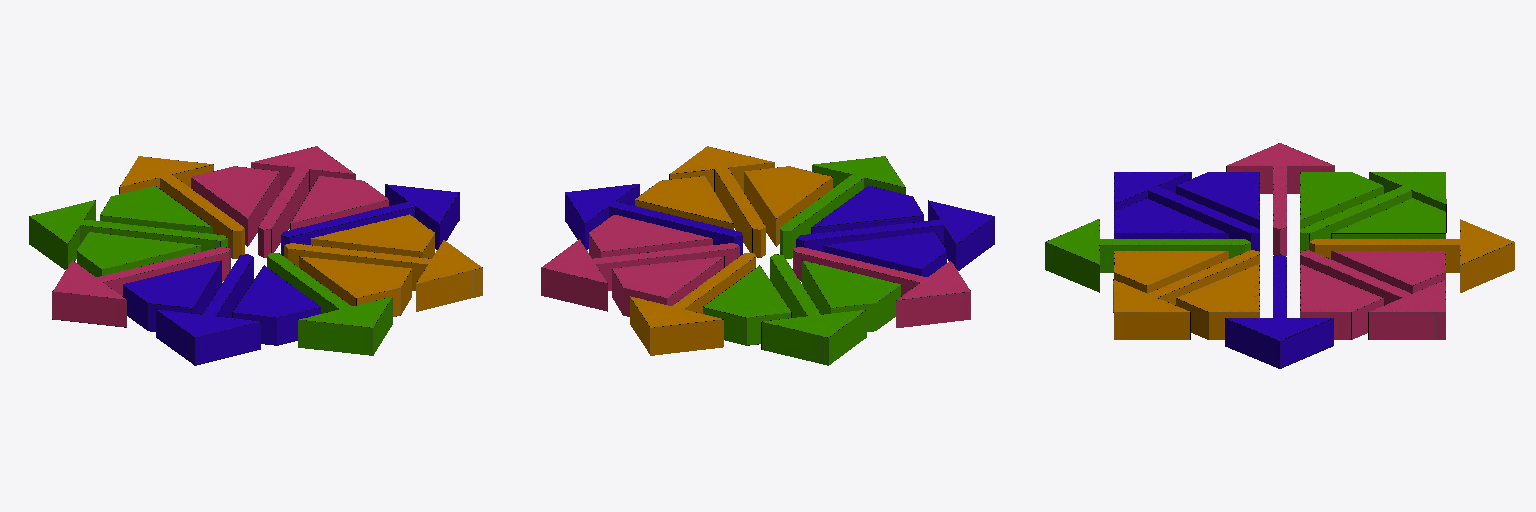
3 views of the same model, side by side, from view 1: azimuth 30°, elevation 25°; view 2: azimuth 150°, elevation 25°; view 3: azimuth 270°, elevation 25° (orthographic).
Visible parts, largest first — view 1: Plane; view 2: Plane; view 3: Plane.
Part boxes in pixels (x1,y1,x2,y2): Plane: (29,146,482,365); Plane: (541,146,994,365); Plane: (1045,143,1514,368).
Size of the model in its own units: 4.43 by 0.293 by 4.43.
1 materials, 1 textured.